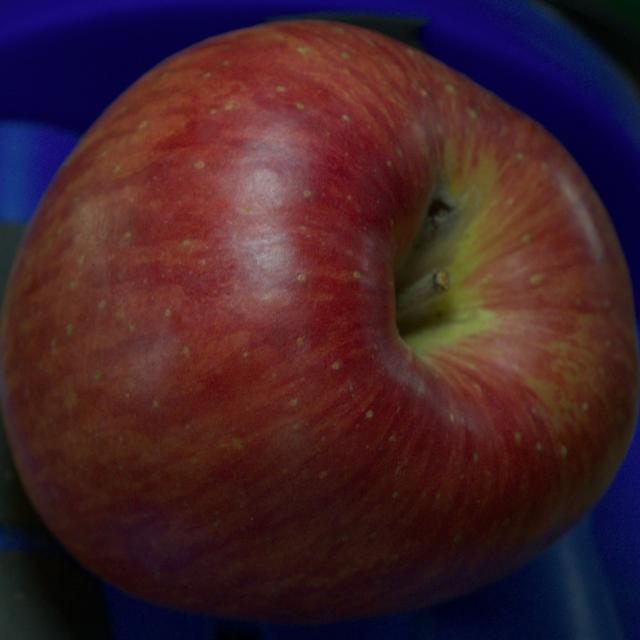apple: (0, 22, 639, 623)
pest: (428, 199, 451, 228)
